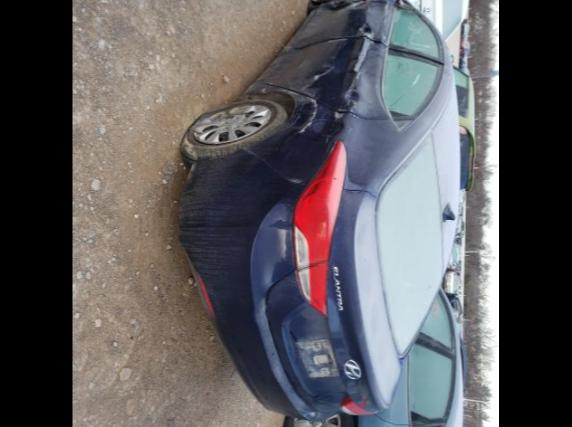Broken part: (184, 98, 286, 166), (284, 36, 344, 50), (322, 0, 380, 12)
Dent: (296, 36, 387, 121), (314, 0, 388, 12), (254, 84, 270, 92), (398, 0, 411, 4)
Missing part: (296, 342, 341, 378), (344, 86, 356, 106), (358, 24, 372, 38)
Scratch: (298, 96, 318, 134), (314, 68, 334, 82), (328, 36, 348, 42), (284, 176, 302, 182), (334, 112, 344, 118), (350, 112, 360, 117), (348, 126, 352, 136)
